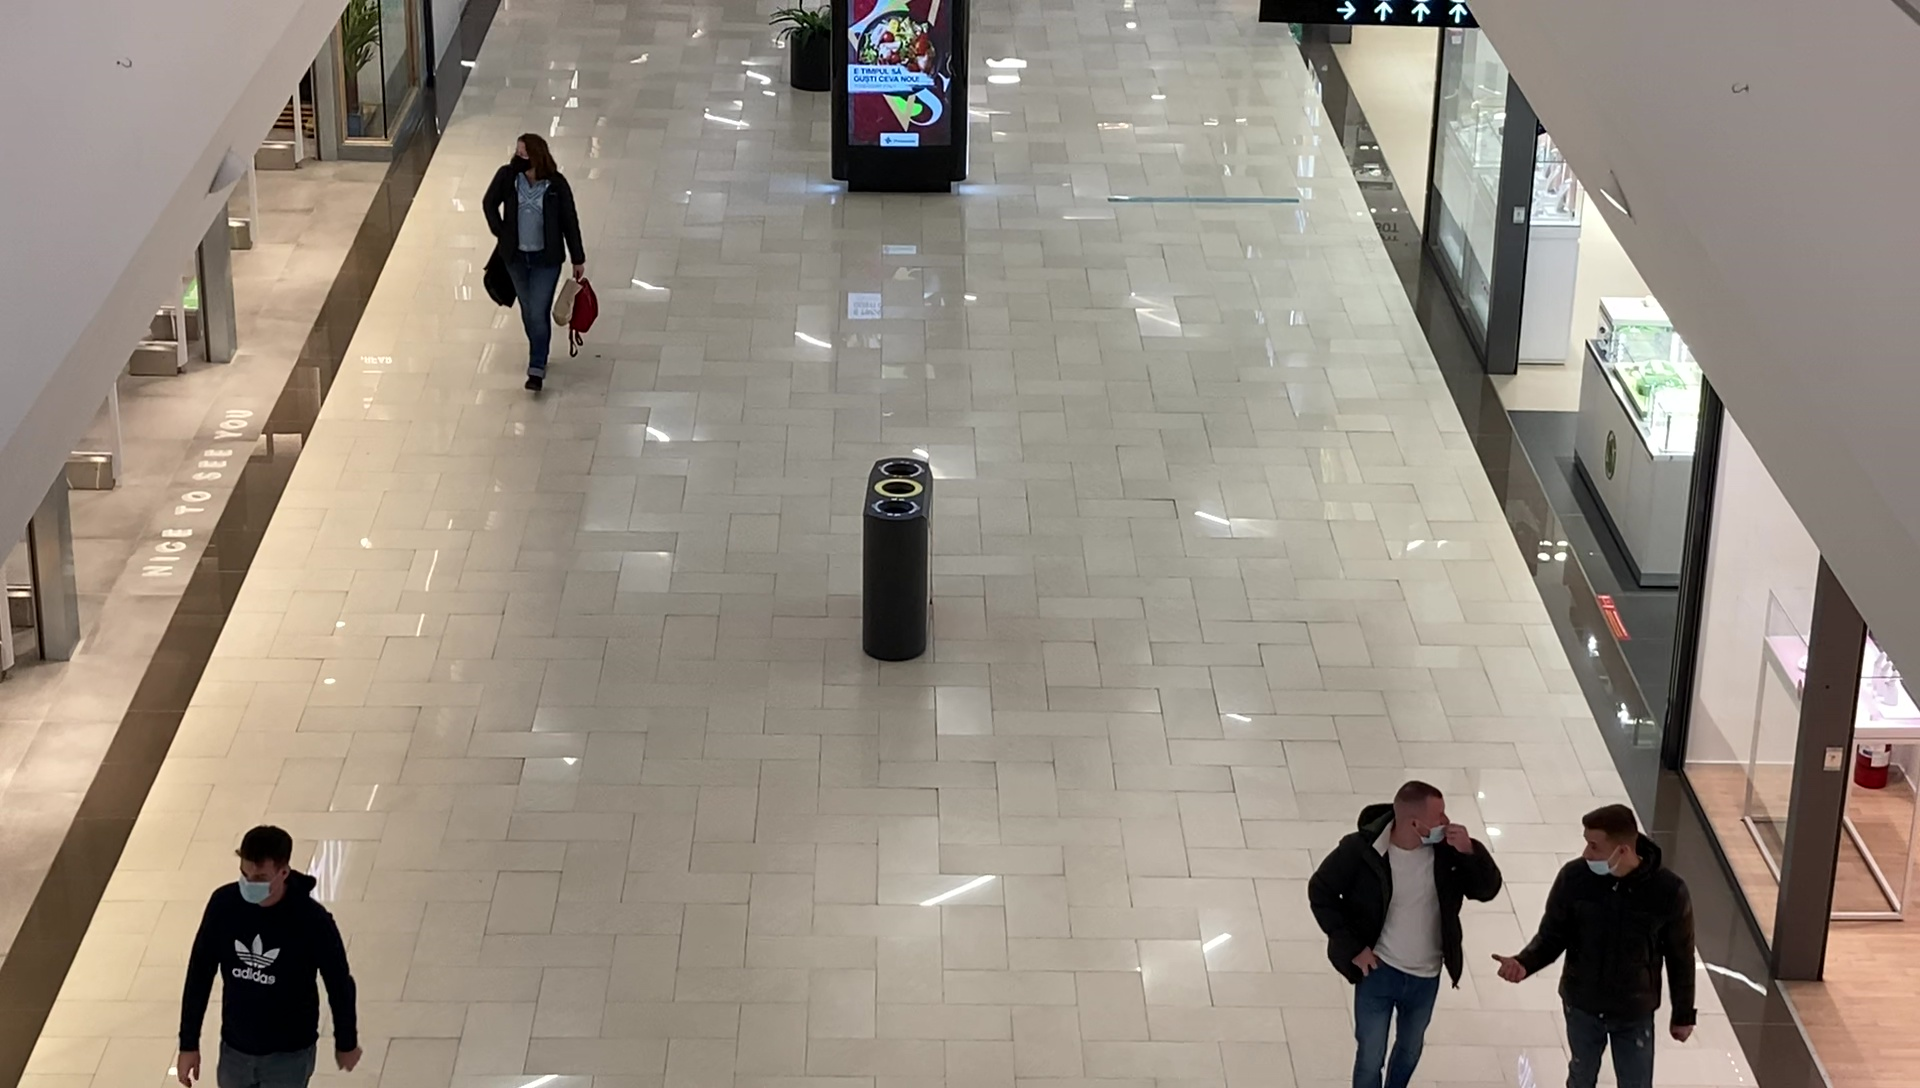person: (1490, 805, 1700, 1088), (1308, 780, 1500, 1088), (176, 825, 364, 1088), (480, 134, 589, 395)
